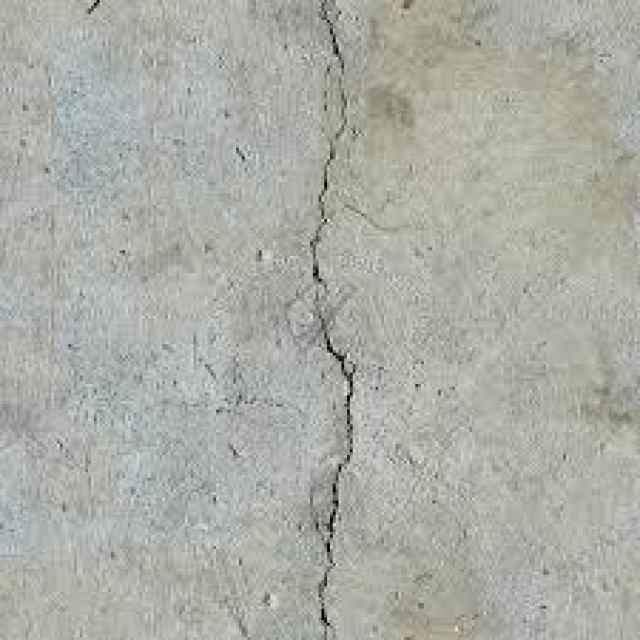Crack: (274, 0, 402, 640)
